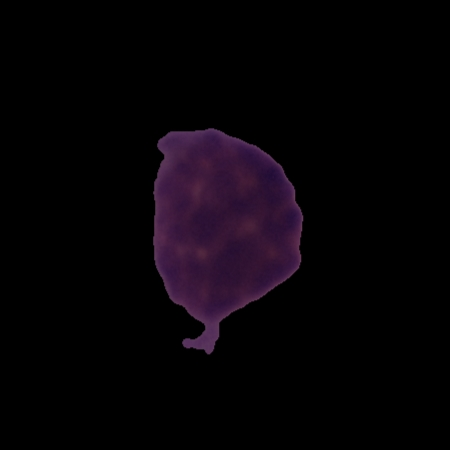HEM: (149, 125, 307, 357)
